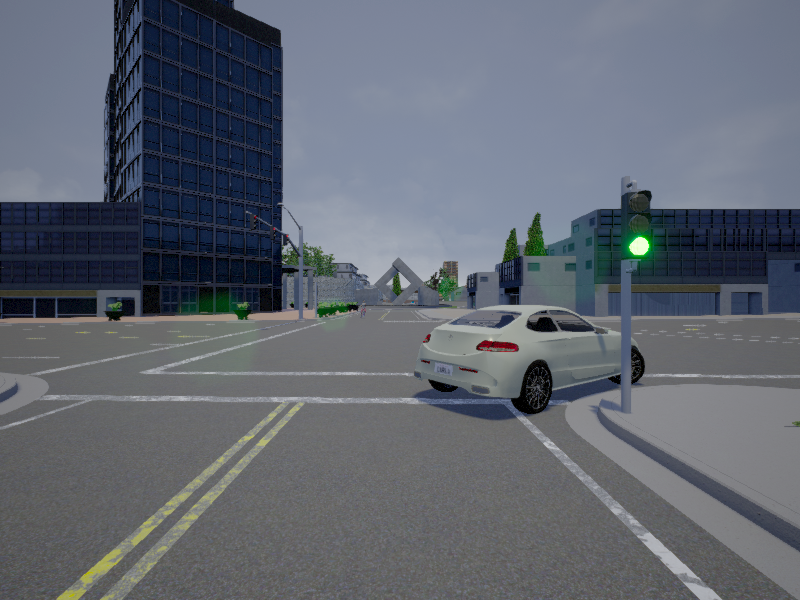Benign: (419, 304, 647, 415)
